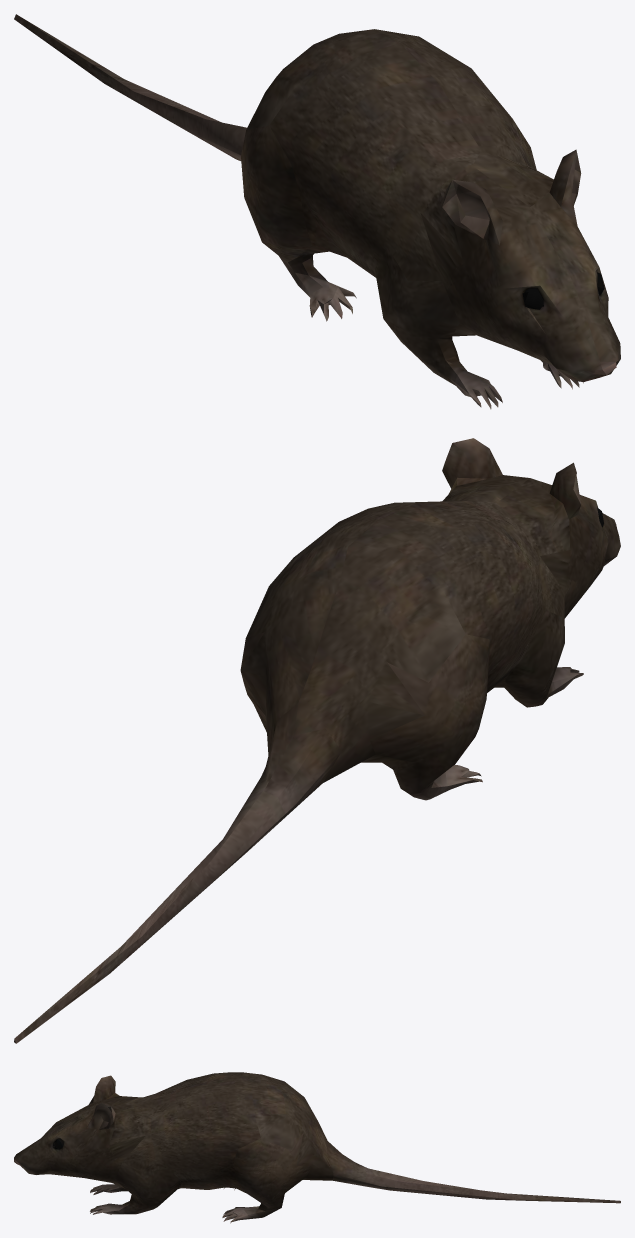
File: street_rat.glb
3 views of the same model, one above another, from view 1: azimuth 30°, elevation 25°; view 2: azimuth 150°, elevation 25°; view 3: azimuth 270°, elevation 25° (orthographic). The views are drawn at different scales.
Visible parts, largest first — view 1: street_rat; view 2: street_rat; view 3: street_rat.
Part boxes in pixels (x1,y1,x2,y2): street_rat: (14,14,620,409); street_rat: (14,438,620,1043); street_rat: (14,1072,620,1223).
Size of the model in its own units: 0.0319 by 0.0339 by 0.1481.
Materials: 1 (1 with a texture image).
